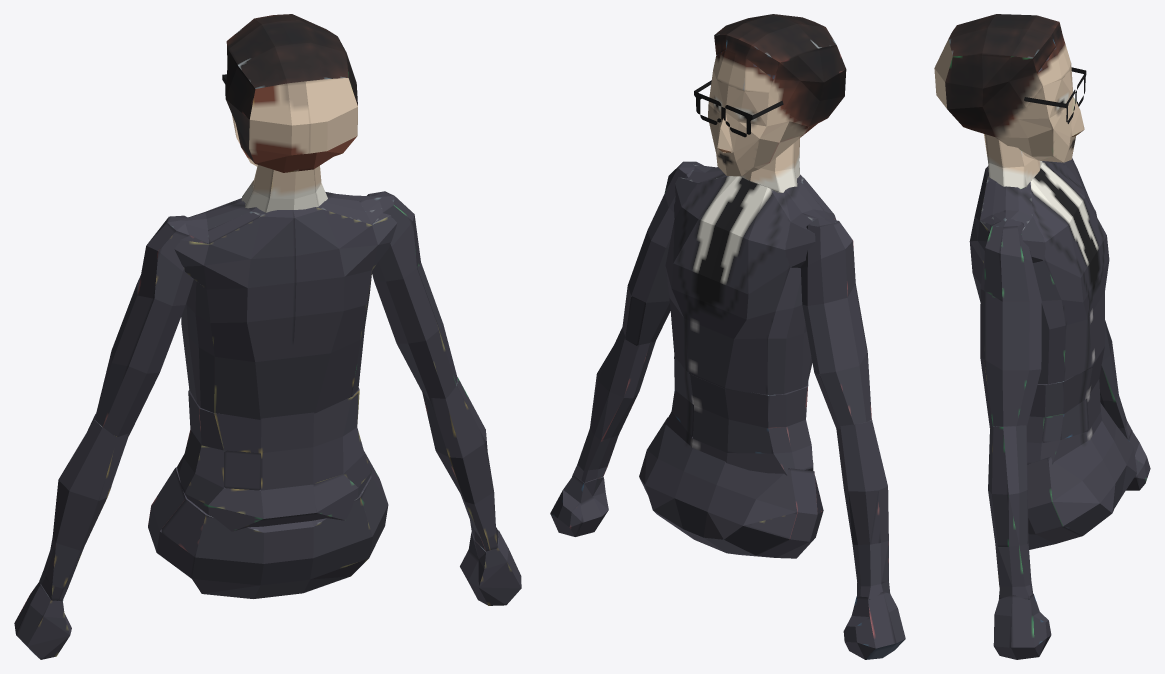
The model's file is Model Stuart Hartwell.fbx.
3 views of the same model, side by side, from view 1: azimuth 30°, elevation 25°; view 2: azimuth 150°, elevation 25°; view 3: azimuth 270°, elevation 25° (orthographic). The views are drawn at different scales.
Visible parts, largest first — view 1: Chest, Stomach, Head, cuboid, cuboid_1, cuboid_3, cuboid_2, cuboid_4, Neck, Hand L_1, Hand L; view 2: Chest, Head, cuboid, Stomach, cuboid_1, cuboid_2, cuboid_4, cuboid_3, Hand L, Hand L_1, Neck, Hair; view 3: Chest, Head, cuboid_3, cuboid, cuboid_4, Stomach, Hand L_1, Neck, cuboid_2, Hand L, Hair.
Boxes of the visible parts, x1=… form: Chest: x1=174, y1=192, x2=397, y2=419; Stomach: x1=177, y1=388, x2=371, y2=531; Head: x1=225, y1=14, x2=357, y2=172; cuboid: x1=148, y1=451, x2=388, y2=598; cuboid_1: x1=94, y1=215, x2=193, y2=436; cuboid_3: x1=367, y1=191, x2=457, y2=400; cuboid_2: x1=39, y1=414, x2=129, y2=601; cuboid_4: x1=422, y1=377, x2=498, y2=551; Neck: x1=241, y1=165, x2=327, y2=217; Hand L_1: x1=460, y1=530, x2=521, y2=605; Hand L: x1=14, y1=582, x2=71, y2=659; Chest: x1=665, y1=164, x2=836, y2=394; Head: x1=708, y1=14, x2=846, y2=176; cuboid: x1=639, y1=417, x2=823, y2=558; Stomach: x1=664, y1=356, x2=813, y2=475; cuboid_1: x1=800, y1=217, x2=871, y2=428; cuboid_2: x1=836, y1=420, x2=890, y2=599; cuboid_4: x1=572, y1=328, x2=655, y2=482; cuboid_3: x1=622, y1=161, x2=703, y2=346; Hand L: x1=843, y1=592, x2=905, y2=659; Hand L_1: x1=550, y1=475, x2=608, y2=536; Neck: x1=740, y1=138, x2=800, y2=192; Hair: x1=694, y1=80, x2=783, y2=137; Chest: x1=969, y1=160, x2=1109, y2=384; Head: x1=934, y1=14, x2=1084, y2=162; cuboid_3: x1=980, y1=218, x2=1041, y2=428; cuboid: x1=1027, y1=403, x2=1136, y2=549; cuboid_4: x1=988, y1=425, x2=1033, y2=599; Stomach: x1=1027, y1=348, x2=1104, y2=464; Hand L_1: x1=993, y1=594, x2=1051, y2=659; Neck: x1=984, y1=134, x2=1042, y2=188; cuboid_2: x1=1099, y1=320, x2=1132, y2=439; Hand L: x1=1126, y1=430, x2=1150, y2=490; Hair: x1=1024, y1=67, x2=1086, y2=123.
Size of the model in its own units: 120 by 162 by 57.94.
Materials: 1 (1 with a texture image).
